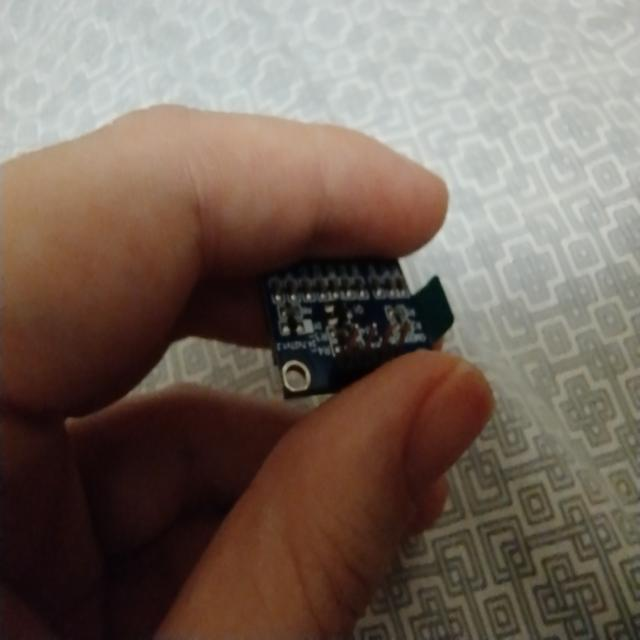oled: (251, 208, 460, 414)
